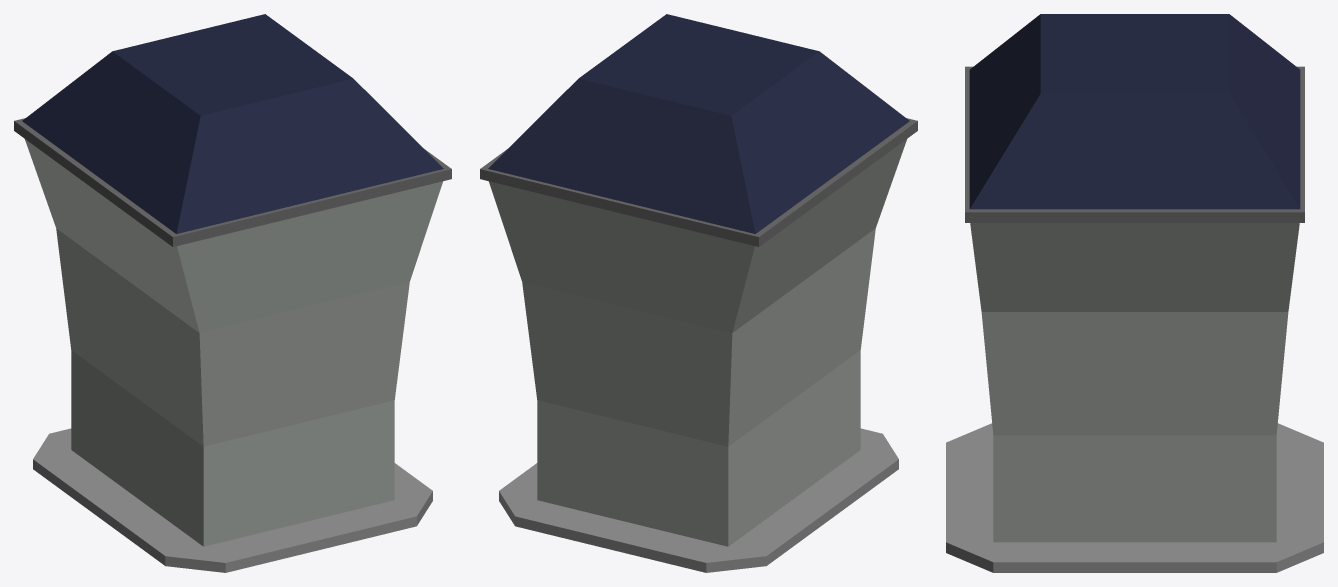
File: p-bld-background-8.glb
The picture shows the model from 3 angles, left to right: view 1: azimuth 30°, elevation 25°; view 2: azimuth 150°, elevation 25°; view 3: azimuth 270°, elevation 25°; orthographic projection. The views are drawn at different scales.
Parts seen in each view (by area): view 1: Cube; view 2: Cube; view 3: Cube.
Part boxes in pixels (x1,y1,x2,y2): Cube: [14, 14, 451, 572]; Cube: [480, 14, 917, 572]; Cube: [946, 14, 1323, 572].
Bounding box in the file's own units: 14.6 × 21 × 16.
